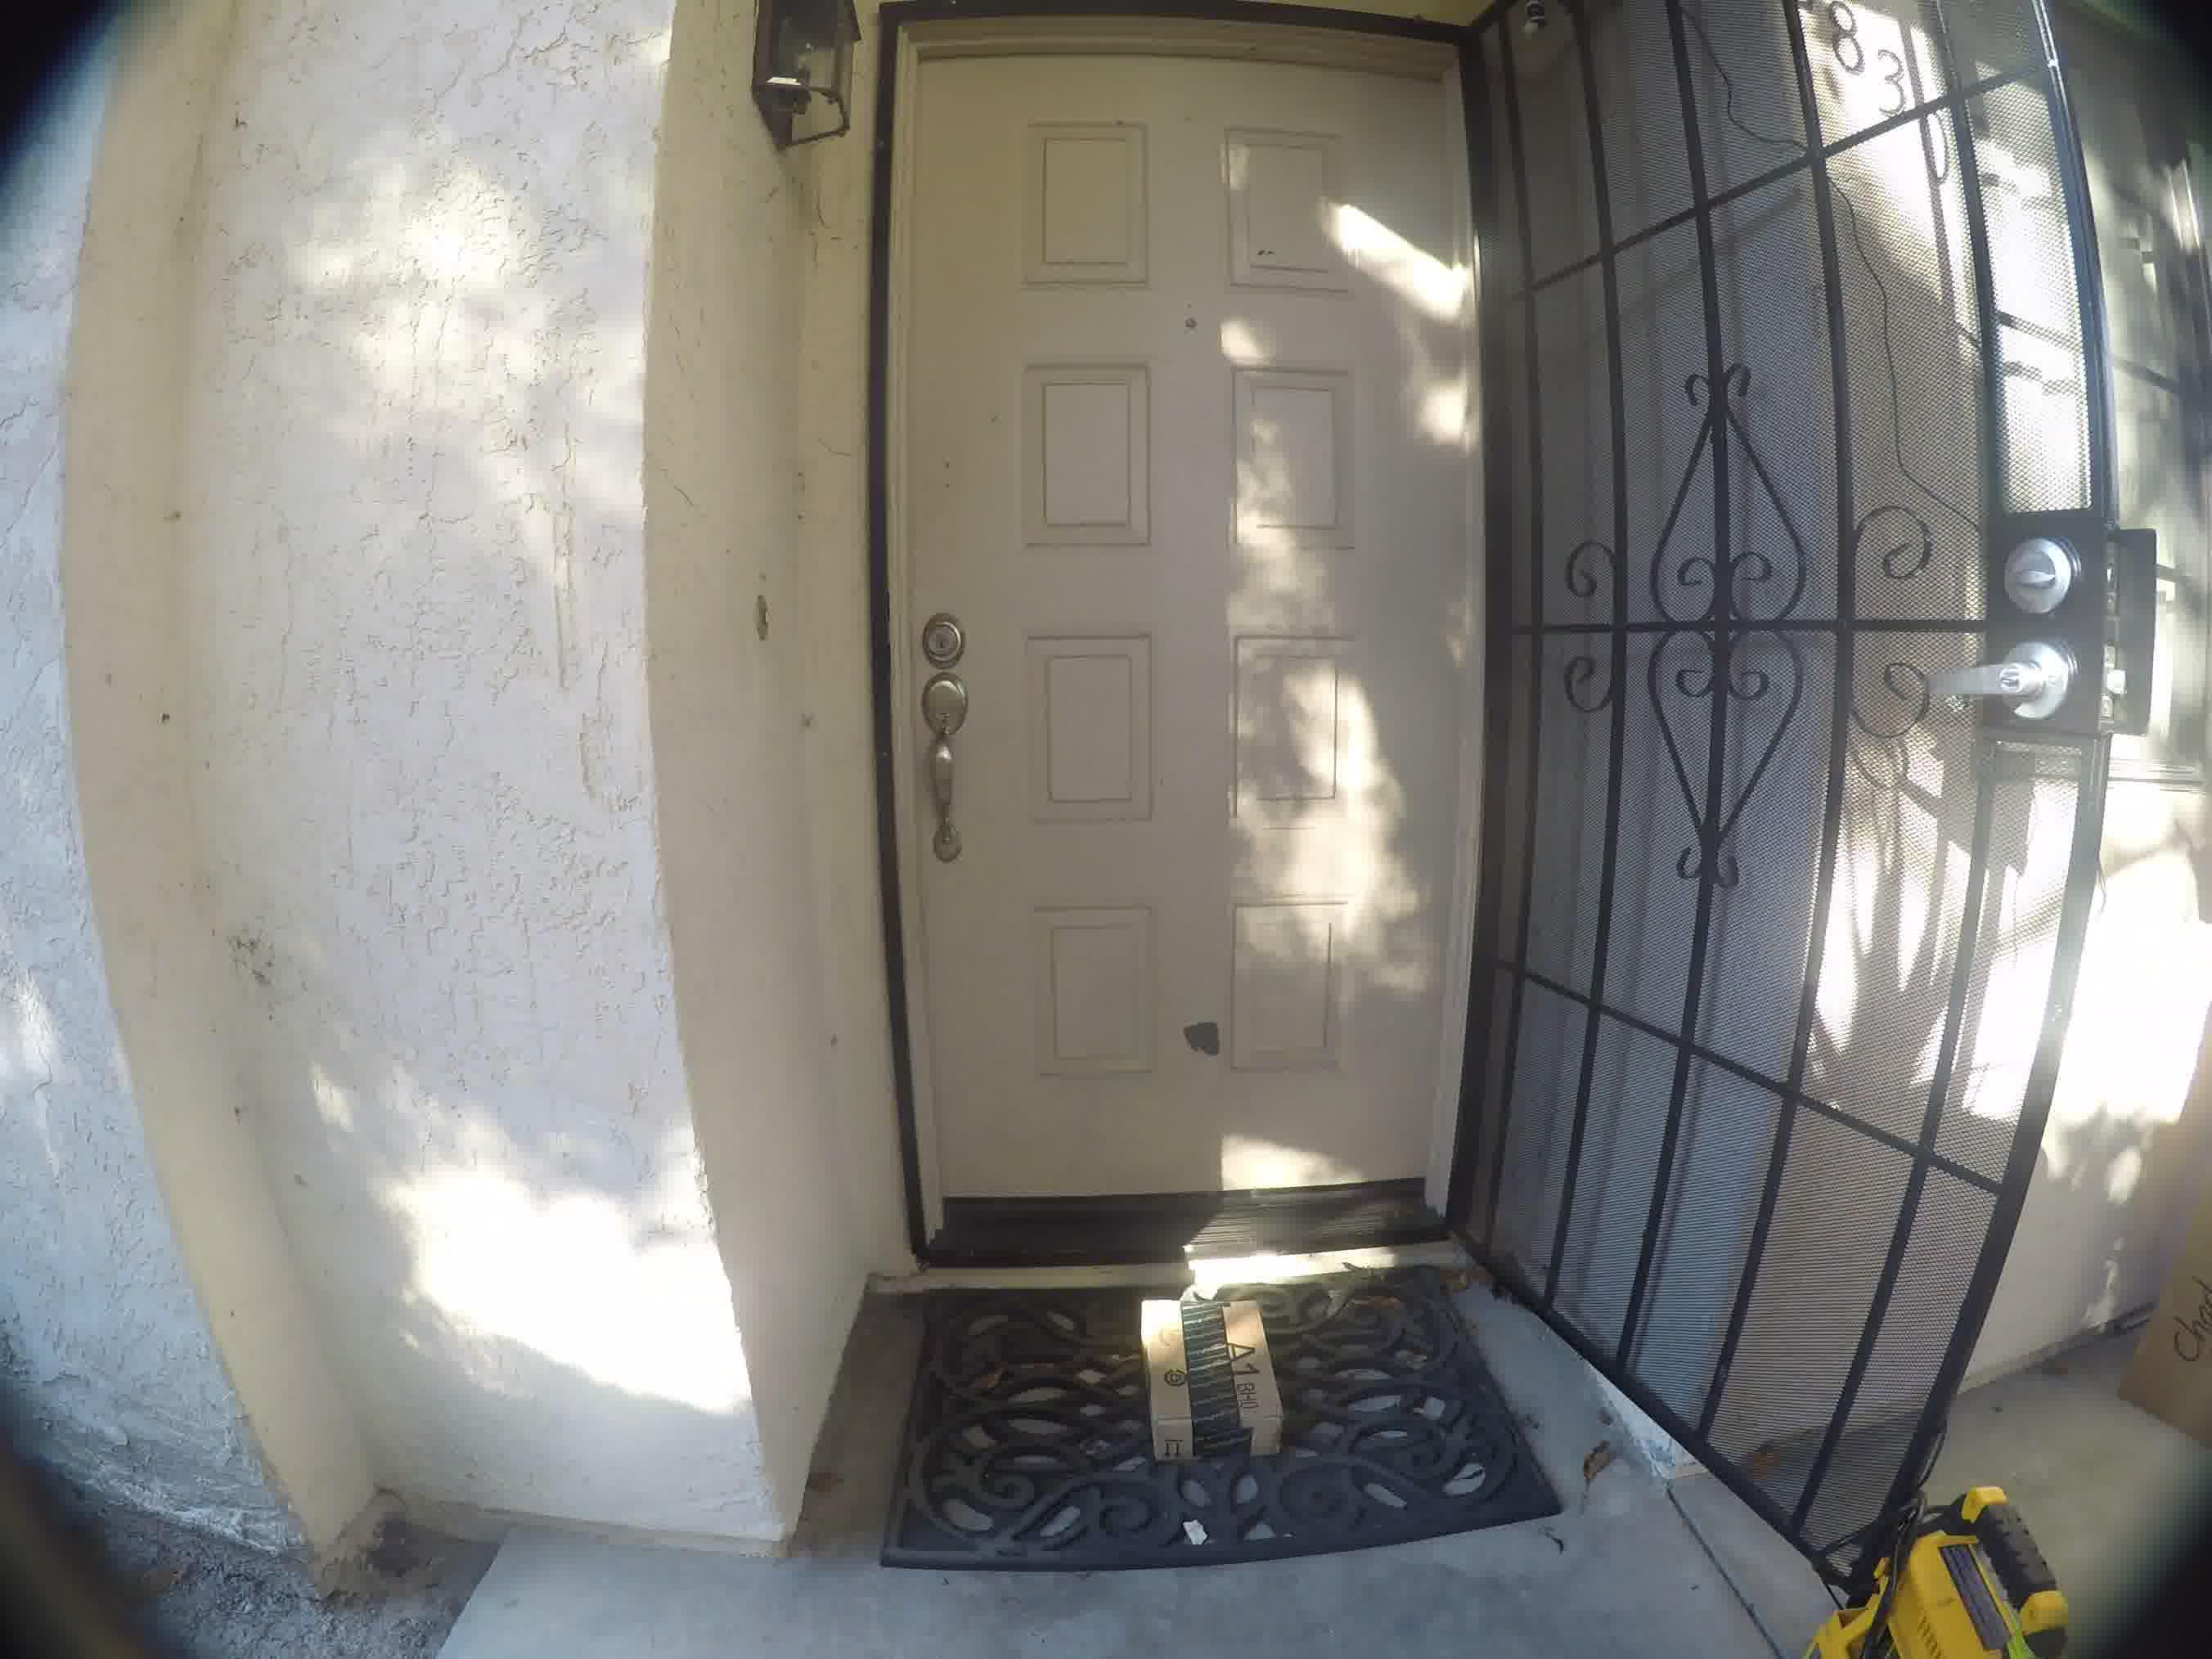box: (1125, 1272, 1298, 1467)
